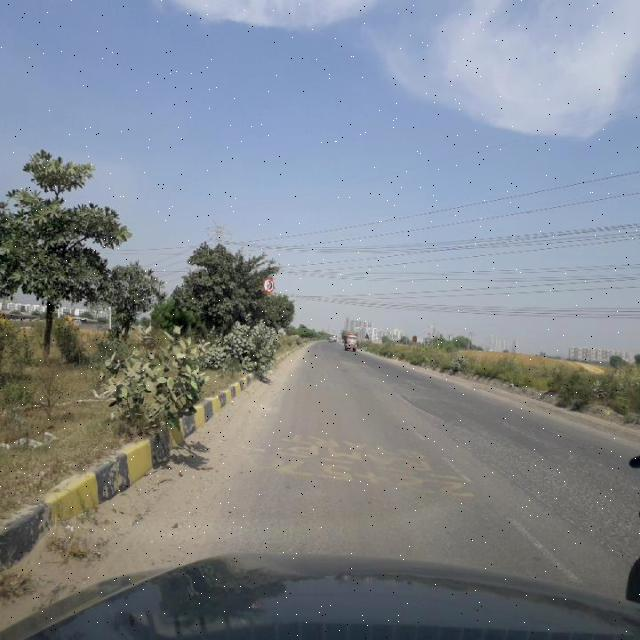D20: (450, 428, 639, 553)
